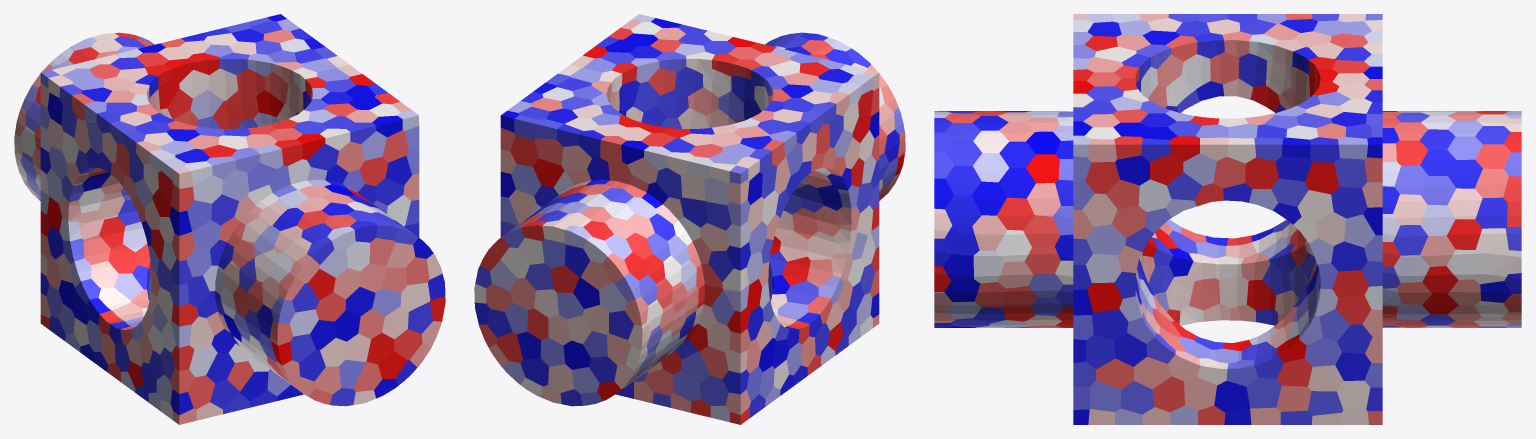
File: Ours_1000_block_Iter22_RVD.obj
3 views of the same model, side by side, from view 1: azimuth 30°, elevation 25°; view 2: azimuth 150°, elevation 25°; view 3: azimuth 270°, elevation 25° (orthographic). The views are drawn at different scales.
Visible parts, largest first — view 1: 3D_Object; view 2: 3D_Object; view 3: 3D_Object.
Boxes of the visible parts, x1,y1,x2,y2 form: 3D_Object: (14, 14, 445, 424); 3D_Object: (474, 14, 905, 424); 3D_Object: (934, 14, 1521, 424).
Size of the model in its own units: 20 by 20 by 38.
Materials: 1 (1 with a texture image).
